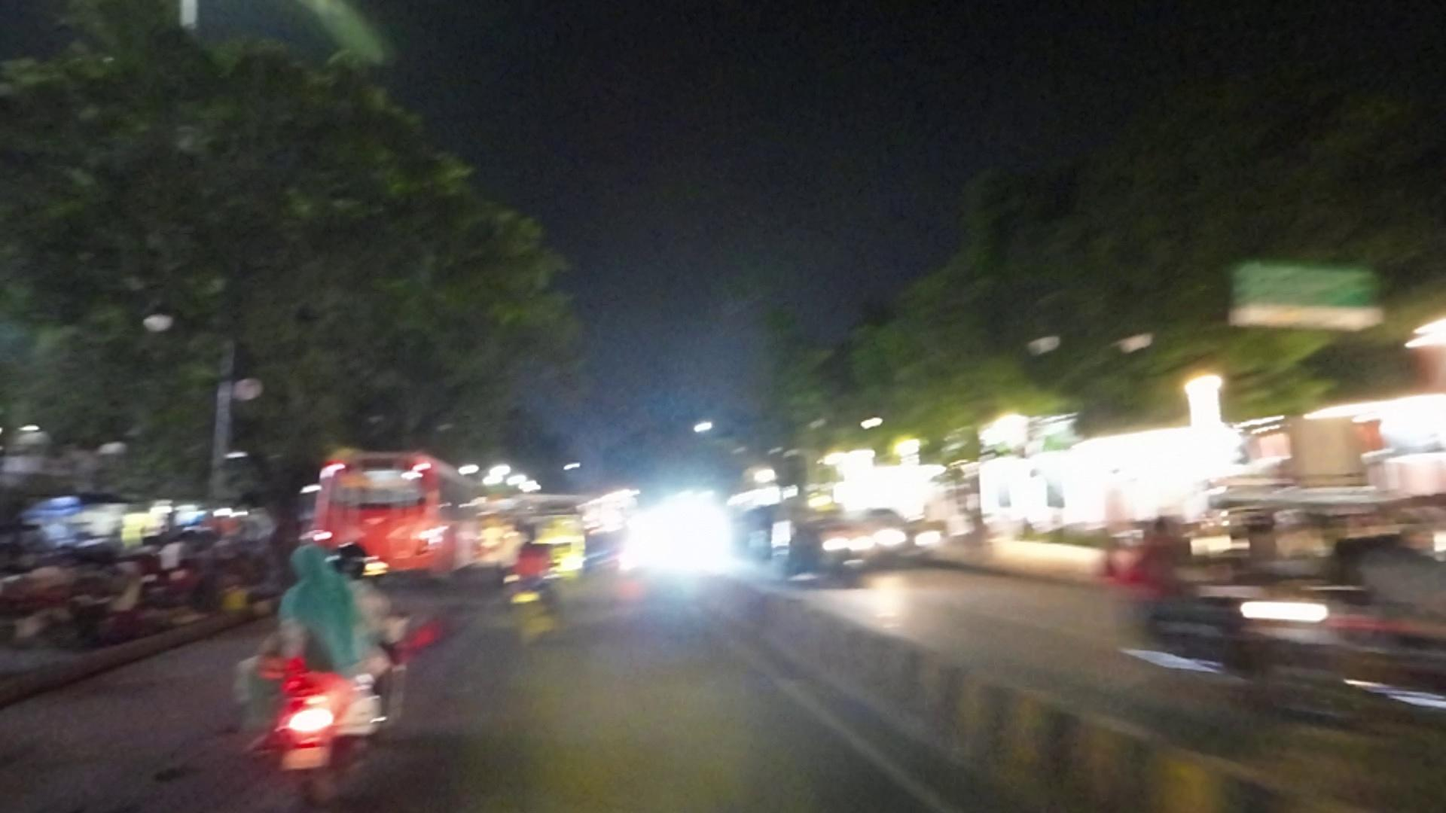streetlight: (136, 285, 195, 345), (226, 341, 272, 411), (1020, 306, 1073, 366), (1118, 306, 1161, 367)
